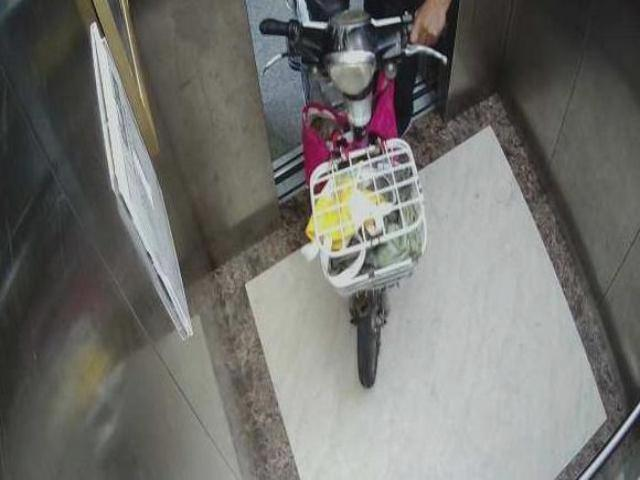emotor: (263, 1, 442, 374)
